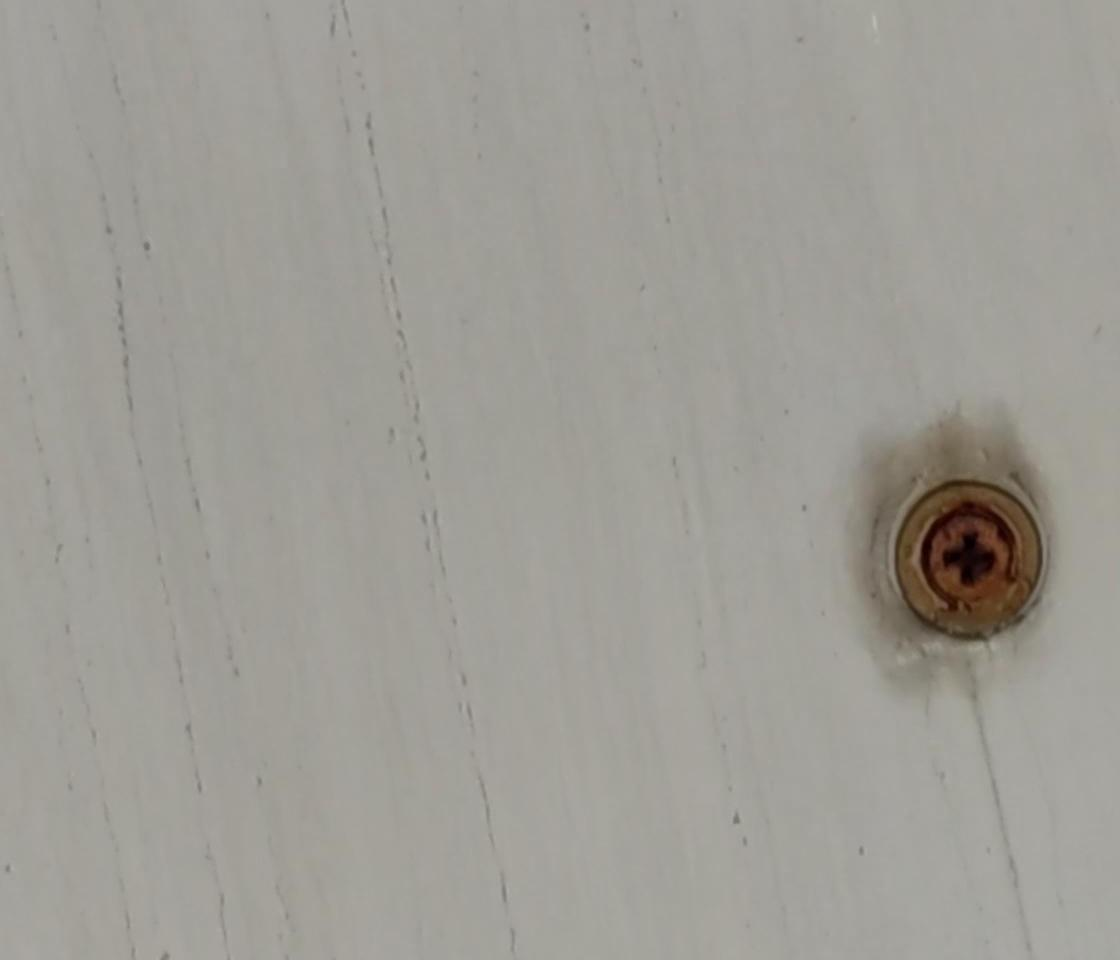rivet_damage: (896, 476, 1048, 643)
